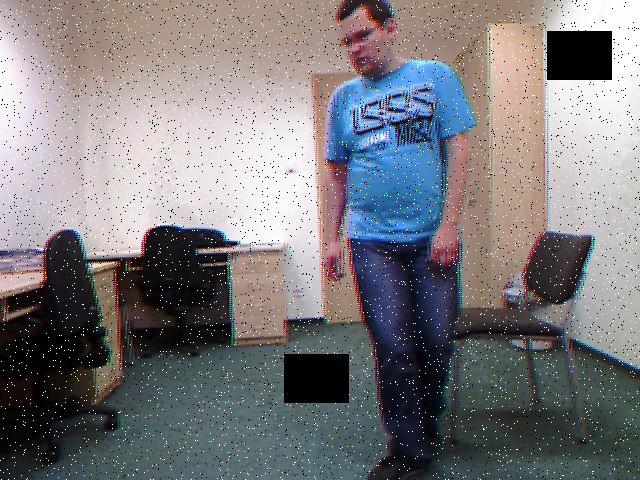walking: (325, 0, 483, 480)
